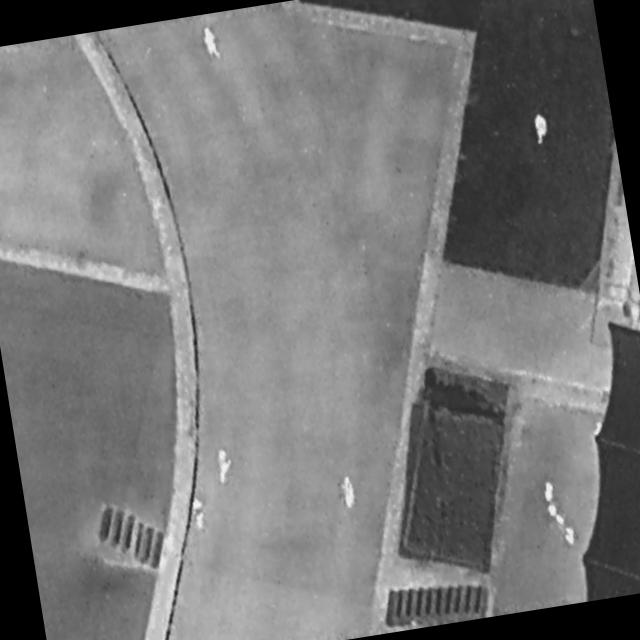person: (199, 22, 226, 67), (211, 446, 238, 490), (186, 497, 210, 537), (532, 111, 552, 147), (339, 475, 360, 508), (590, 417, 610, 443)
